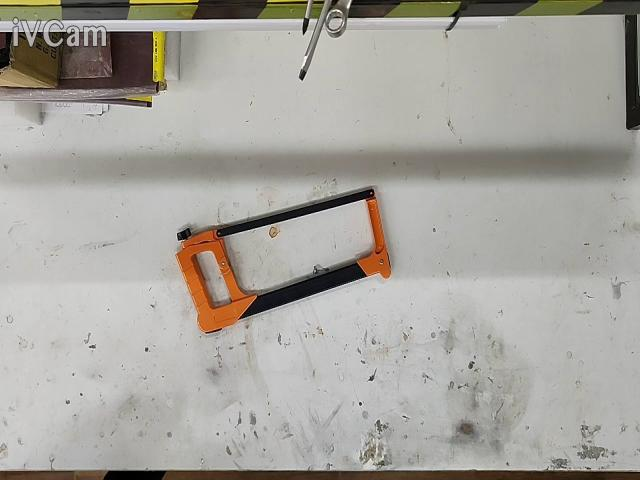Backsaw: (176, 187, 391, 333)
Wrench: (325, 0, 351, 38)
